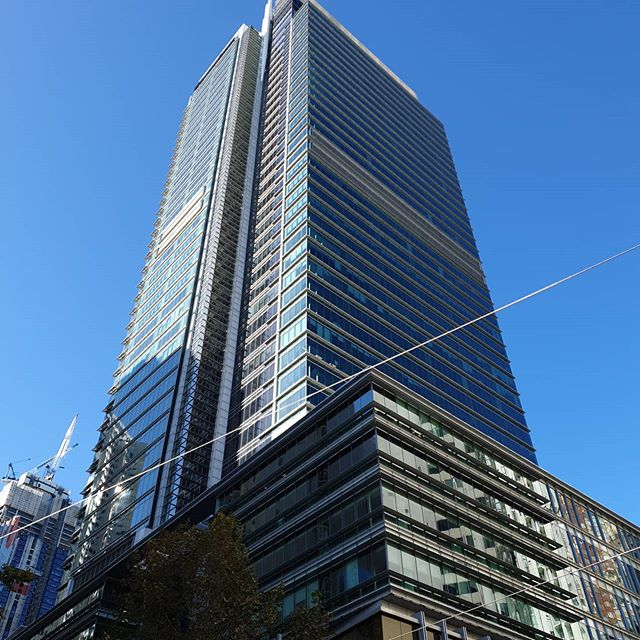building: (70, 1, 559, 617)
sky: (459, 1, 640, 442), (1, 2, 191, 416)
